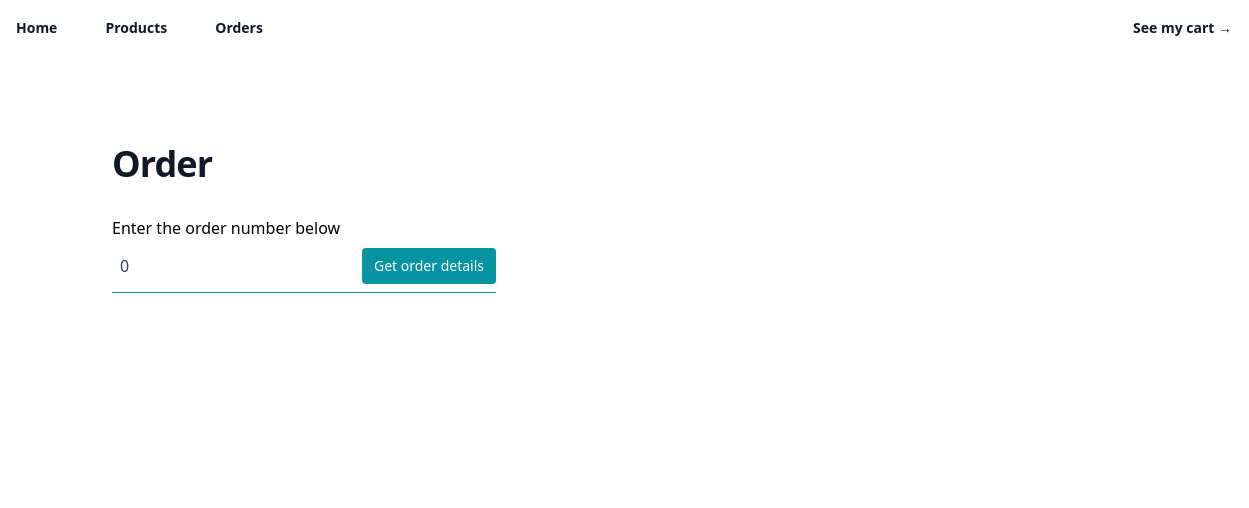
Scenario: Orders page › should allow the user to get the details of an order number
This screenshot has width=1249, height=508.
Replace the text in the number field named "Order" with "12" at (231, 266), box left=112, top=252, right=350, bottom=280
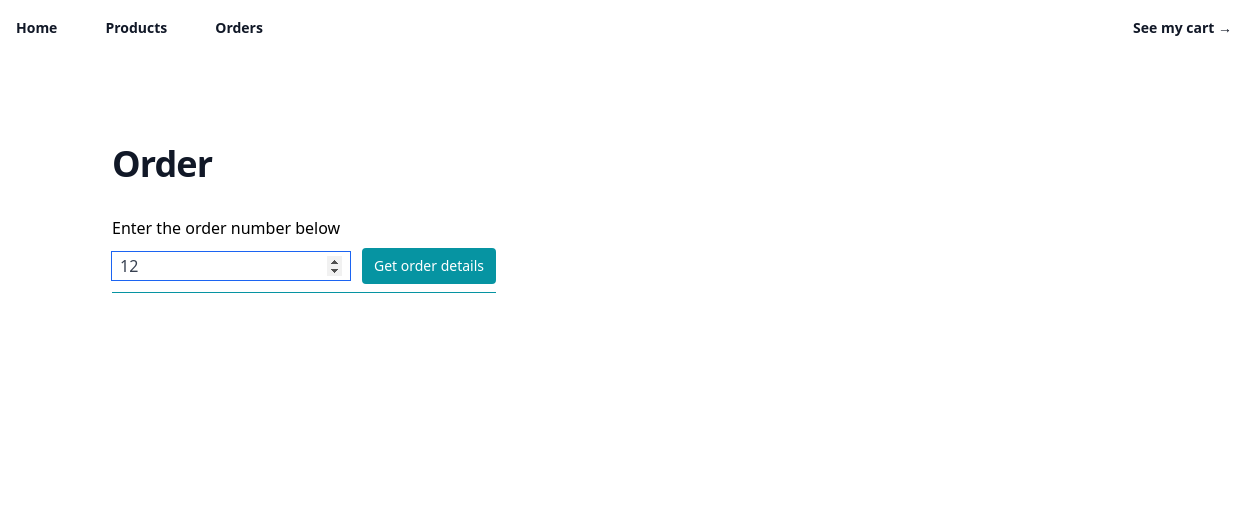
Click the button with test id "order-details-button" at (429, 266), box left=362, top=248, right=496, bottom=284
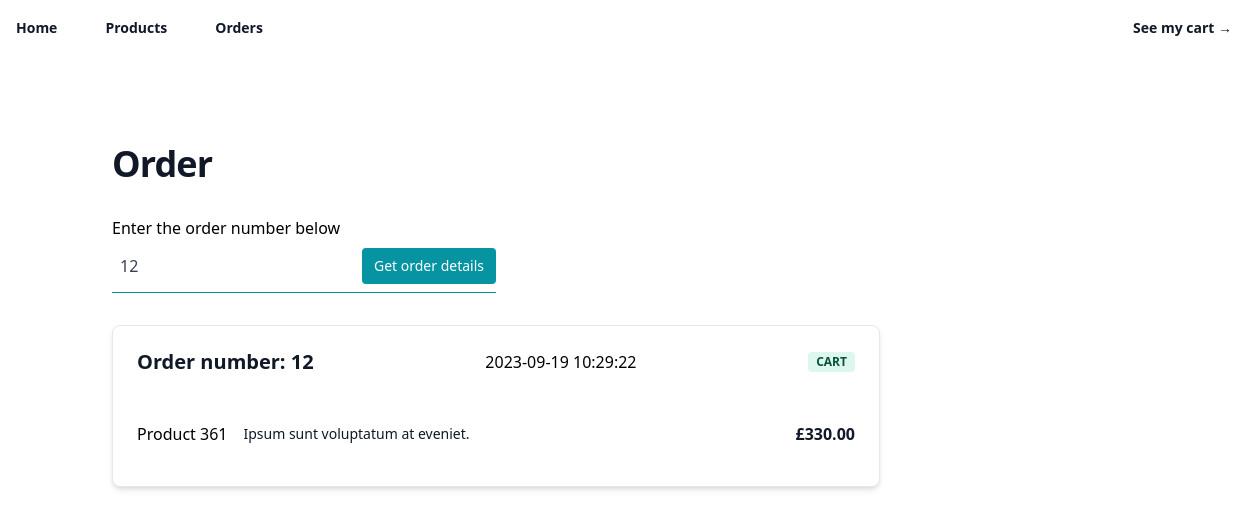
Now the heading "Order number: 12" is shown, box left=137, top=352, right=314, bottom=372
Now the text "Product 361" is shown, box left=137, top=422, right=228, bottom=446
Now the text "£330.00" is shown, box left=796, top=422, right=855, bottom=446
